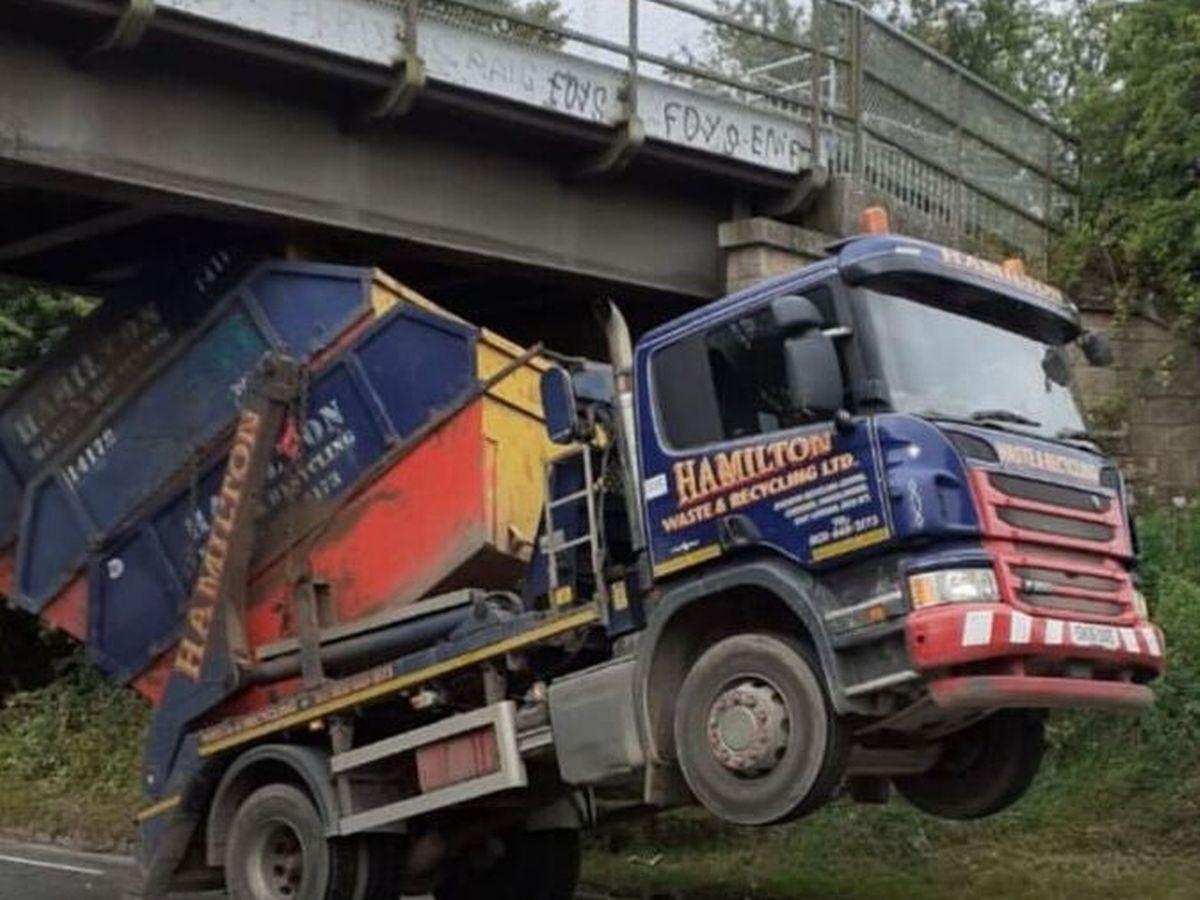truck: (141, 227, 1170, 900)
